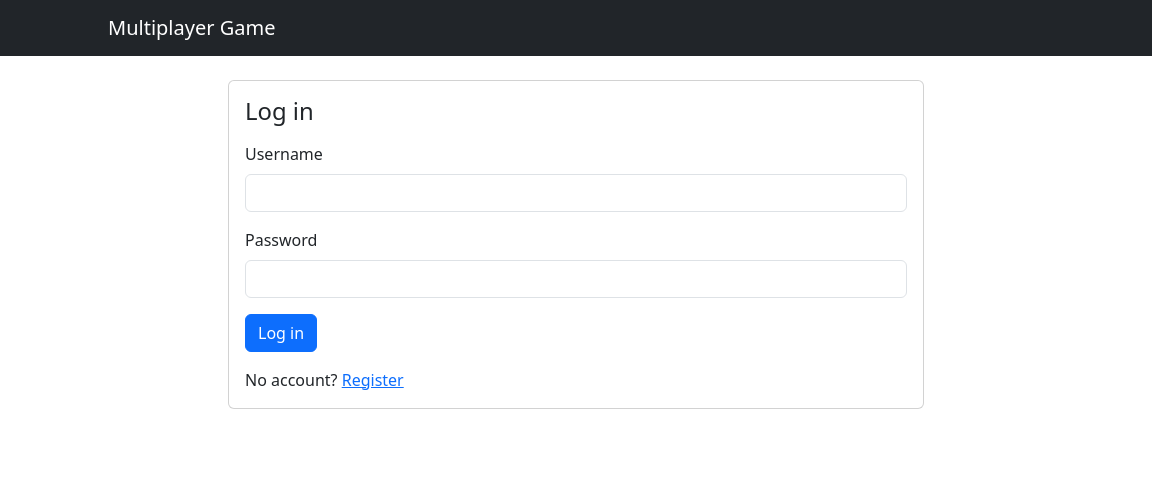
Test: an unreachable server is reported as such
The image size is (1152, 500).
Type "alice" into the field labelled "Username" at point(576, 193), box [245,174,907,212]
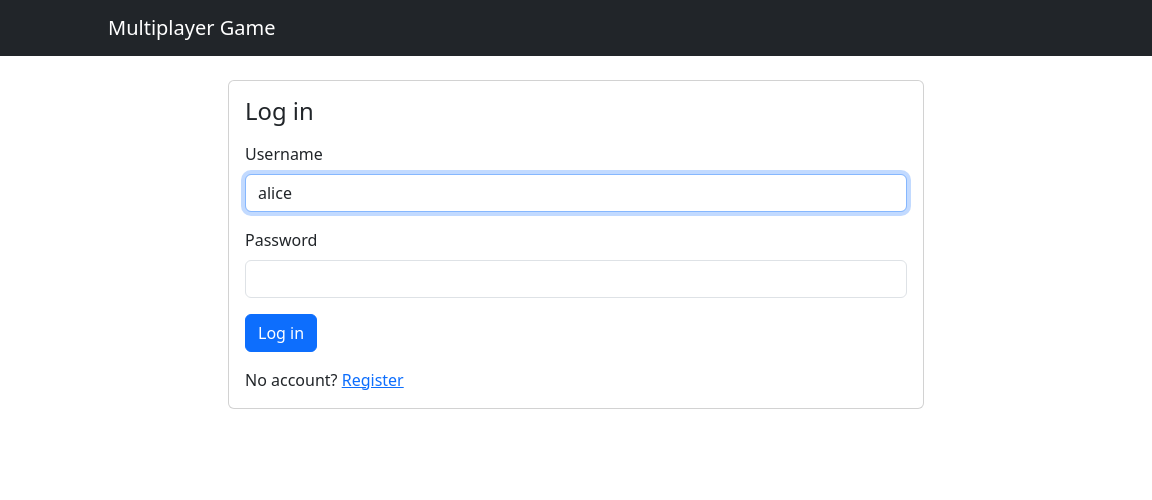
Type "whatever-password" into the password field labelled "Password" at point(576, 279), box [245,260,907,298]
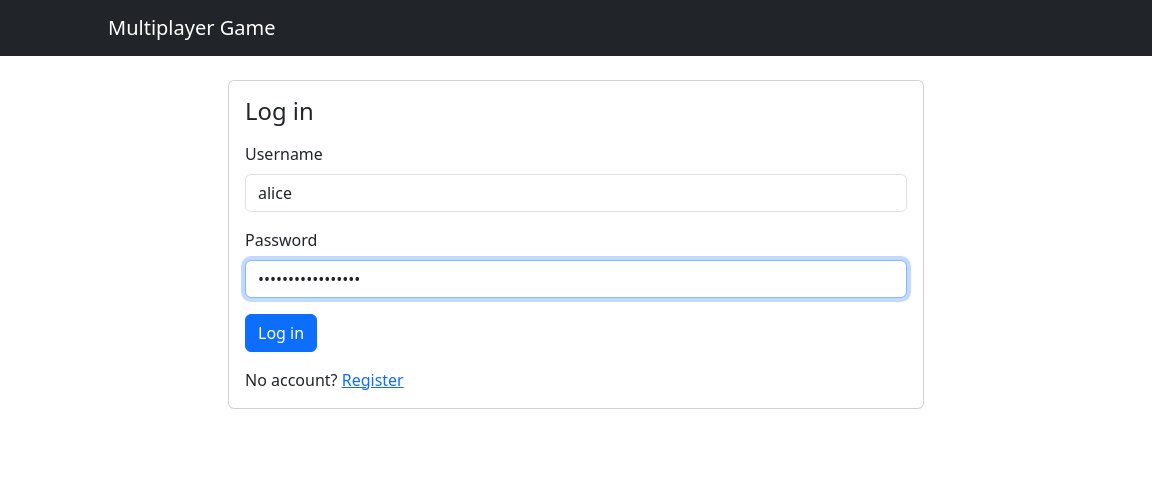
Click the button "Log in" at point(281, 333), box [245,314,317,352]
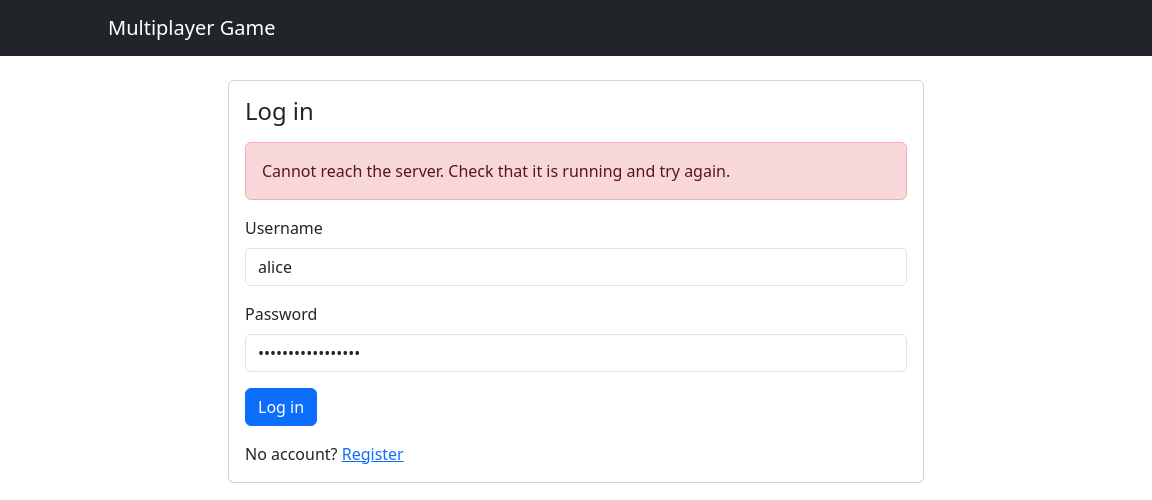
Check: the message shows "Cannot reach the server", box [262,160,730,182]
